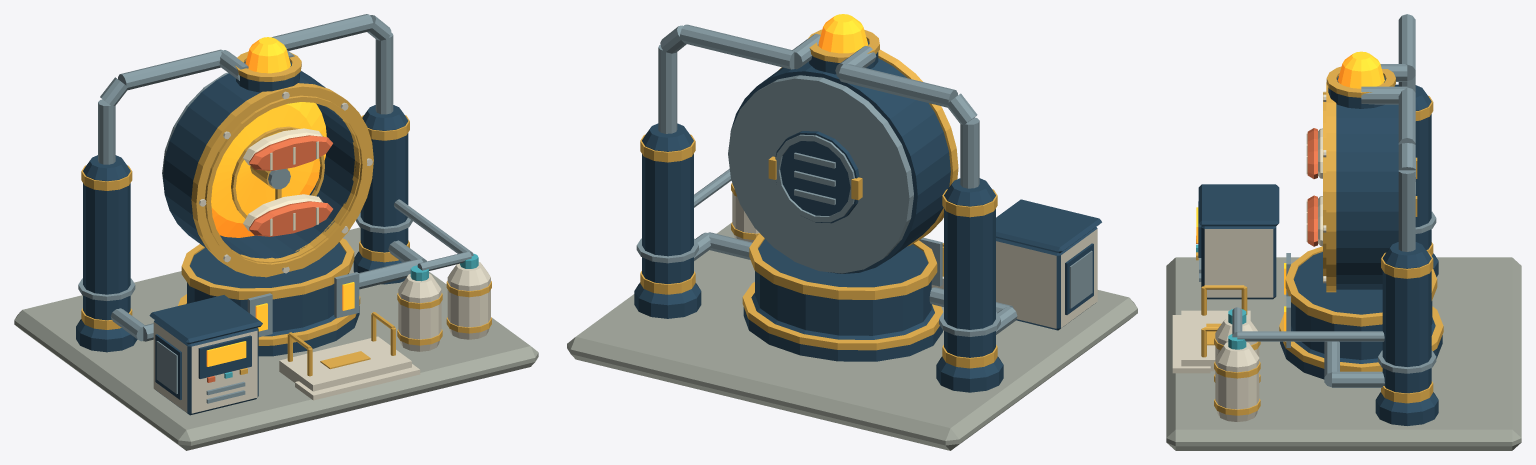
Rendered from fusion-lv2.glb.
3 views of the same model, side by side, from view 1: azimuth 30°, elevation 25°; view 2: azimuth 150°, elevation 25°; view 3: azimuth 270°, elevation 25° (orthographic). The views are drawn at different scales.
Parts seen in each view (by area): view 1: Fusion_L2, Twin_Nigiri_Rotor.001; view 2: Fusion_L2; view 3: Fusion_L2, Twin_Nigiri_Rotor.001.
Part boxes in pixels (left/top/right/bottom): Fusion_L2: left=14, top=14, right=538, bottom=450; Twin_Nigiri_Rotor.001: left=231, top=126, right=332, bottom=236; Fusion_L2: left=567, top=14, right=1137, bottom=450; Fusion_L2: left=1166, top=14, right=1521, bottom=450; Twin_Nigiri_Rotor.001: left=1306, top=128, right=1322, bottom=246.
Bounding box in the file's own units: 5.4 × 4.32 × 4.5.
